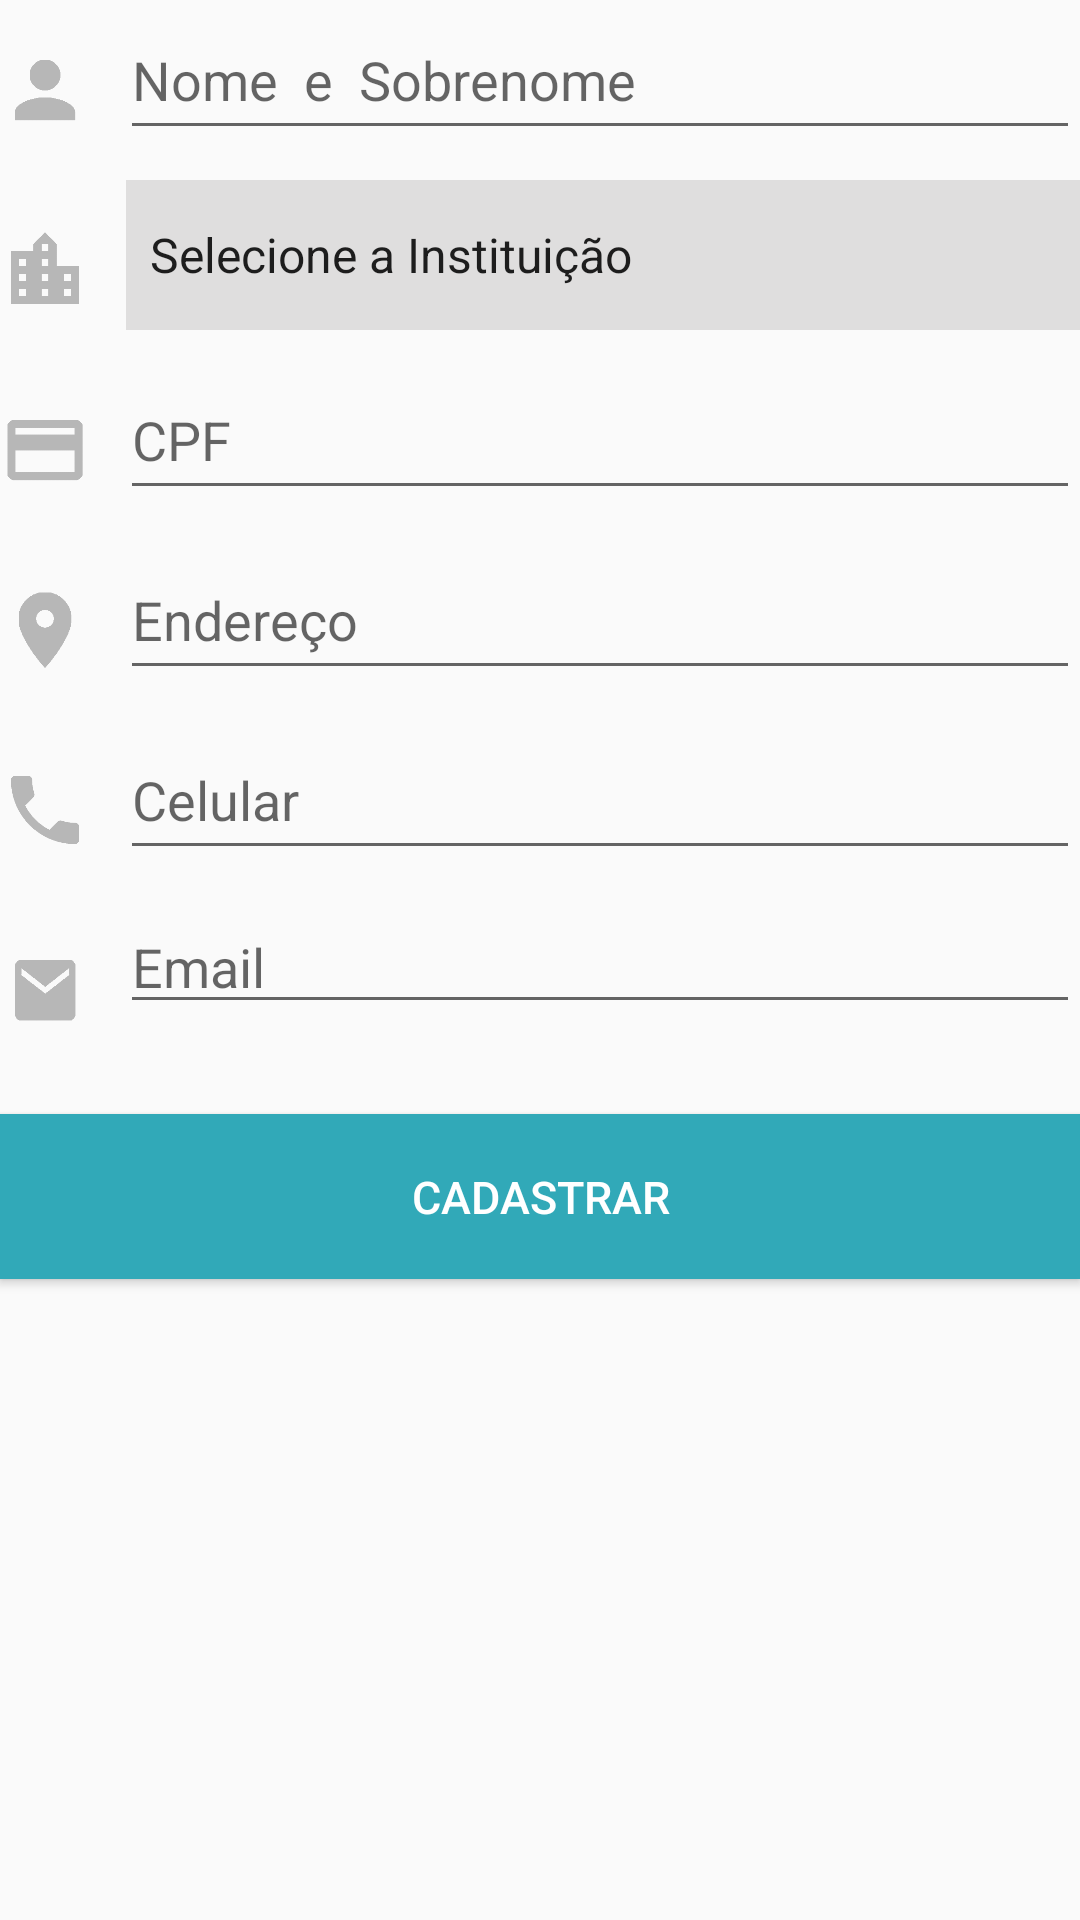

Named icons in this screenshot (1080*1920) and their bounding boxes, detection(x1, y1, x2, y2):
aluno: detection(15, 60, 75, 120)
endereco: detection(19, 592, 71, 668)
instituicao de ensino: detection(11, 233, 79, 304)
